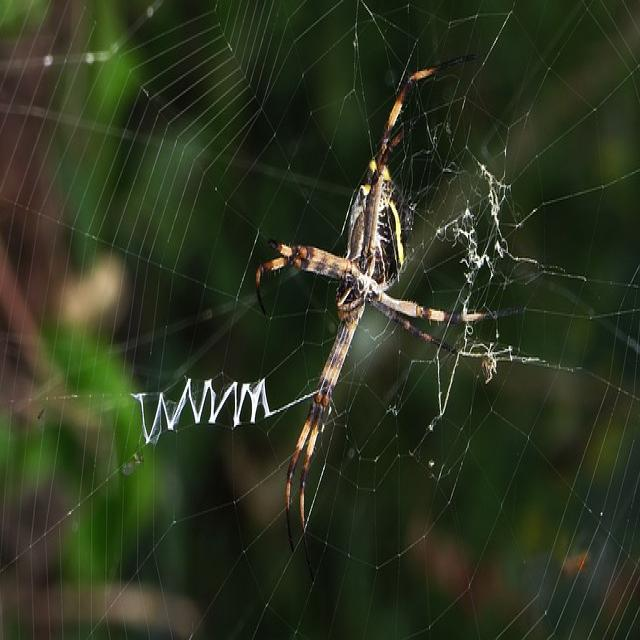spyder: (258, 58, 506, 555)
